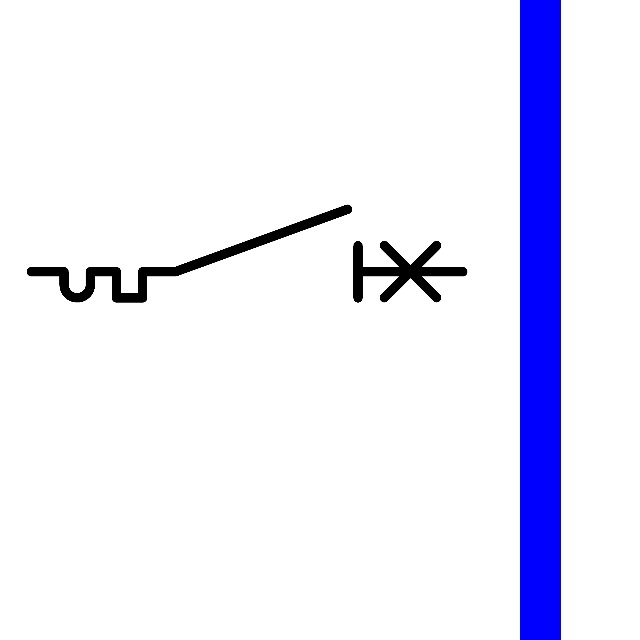interruptor_termomagnetico: (20, 198, 474, 309)
